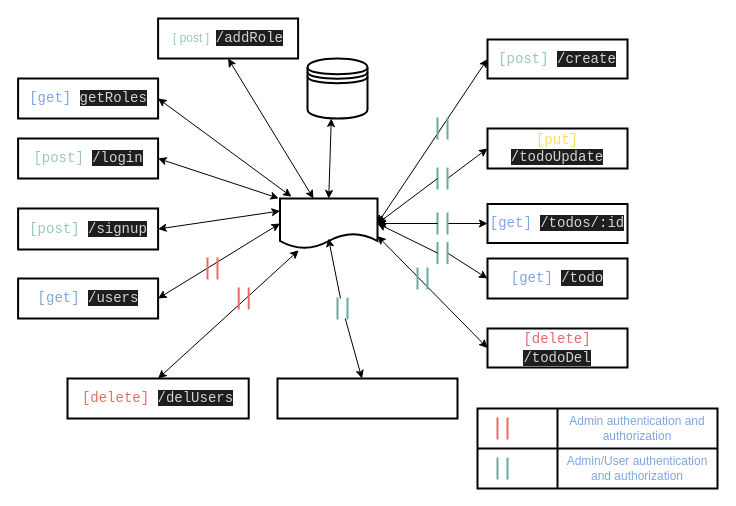
Some shapes in this 736 by 506 pixel diagram are drawn without their labels. Each missing label, with the centre of its shape:
"[delete] /todosDel/:id" goes at pixel 367 398.
"Server" goes at pixel 328 223.
